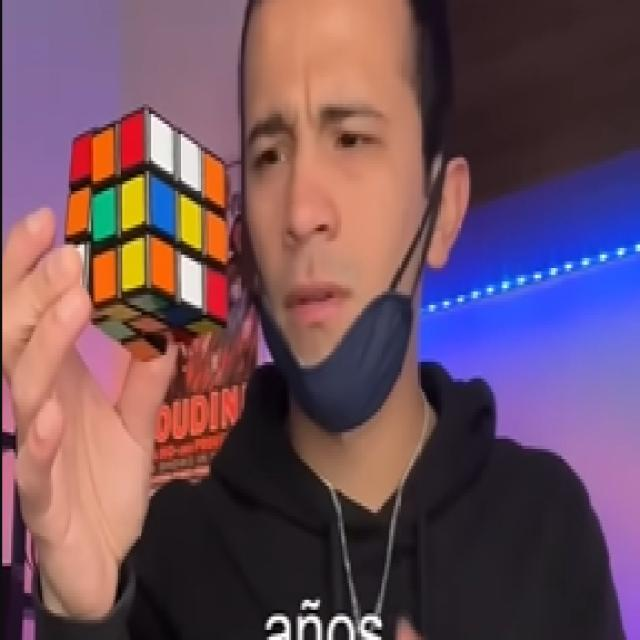Cubo-No-resuelto: (58, 104, 227, 355)
